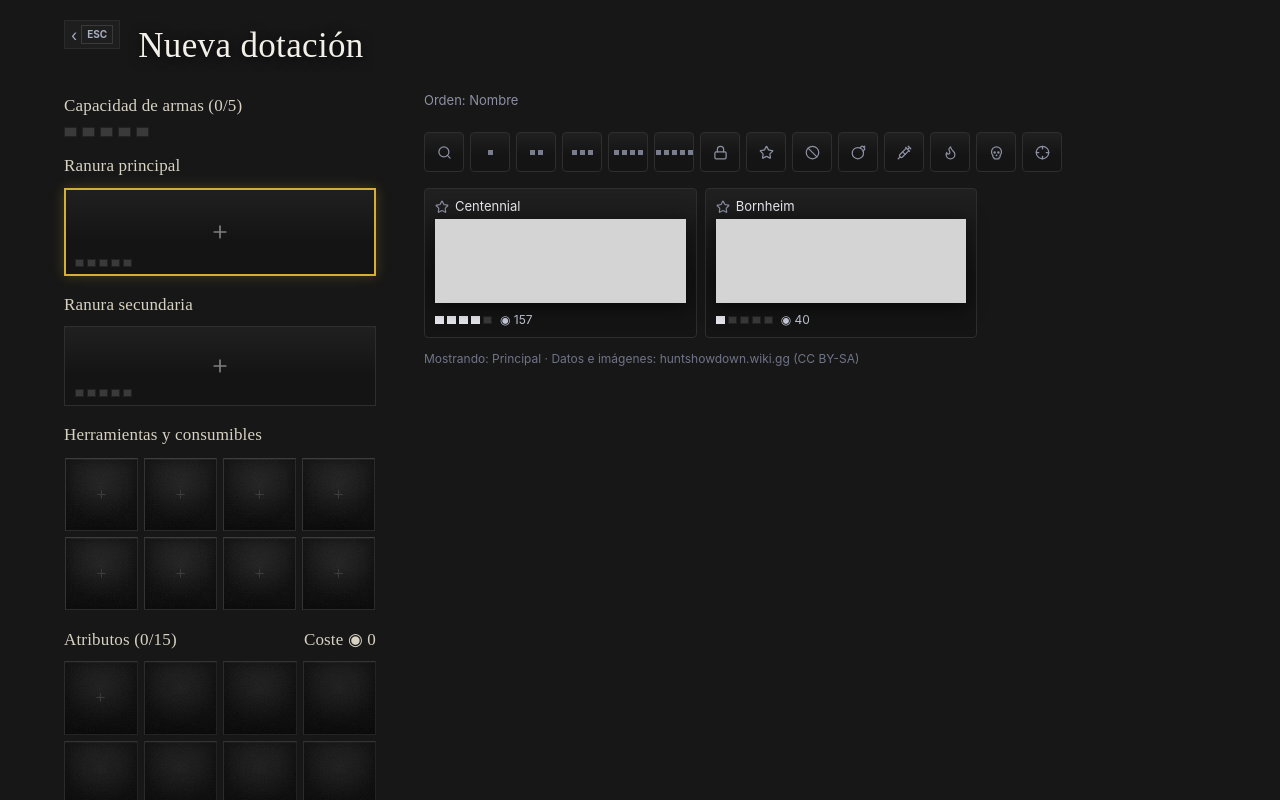
Test: DotacionEditor con armas live › filtra el selector con la búsqueda existente
This screenshot has width=1280, height=800.
Expected: the text "Centennial" is shown, [455,197,520,216]
Click the button named "buscar" at [444, 152], box [424,132,464,172]
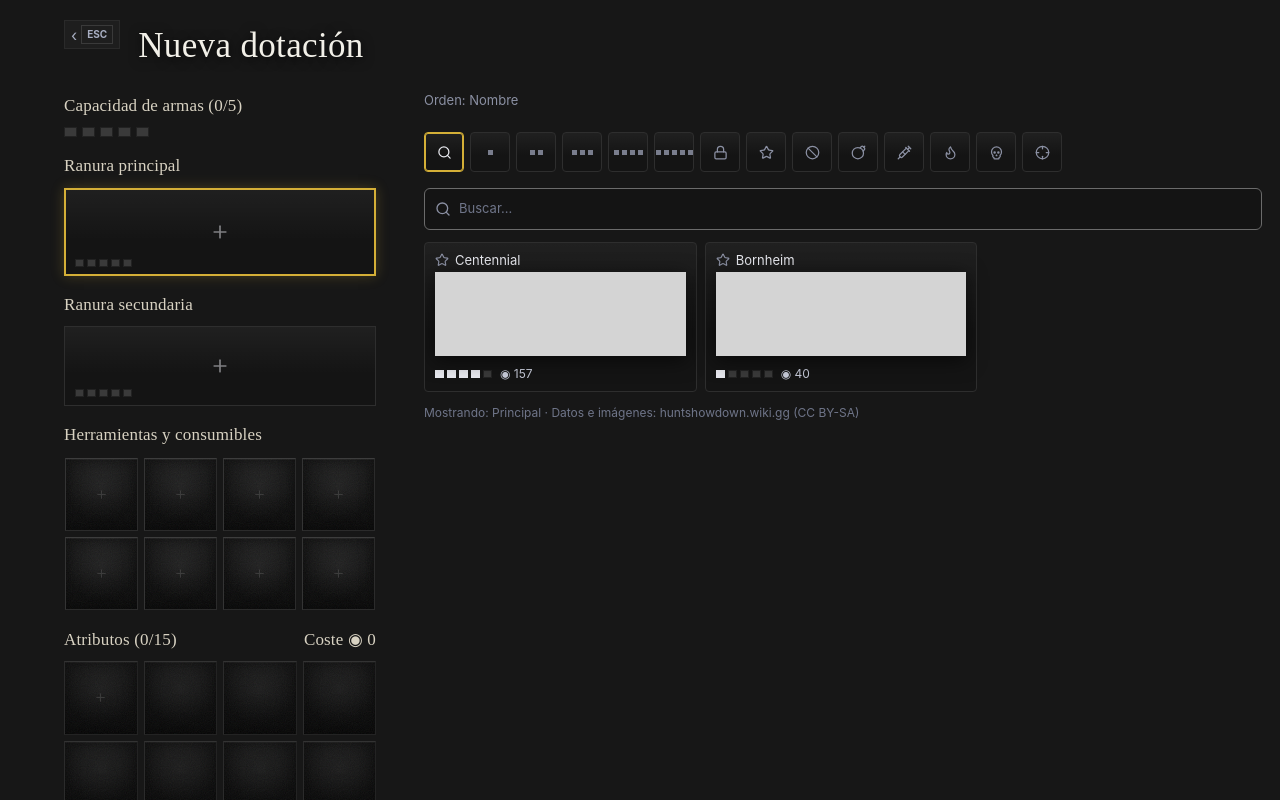
Type "bornheim" into the search field with placeholder "Buscar..." at [855, 209], box [459,189,1251,228]
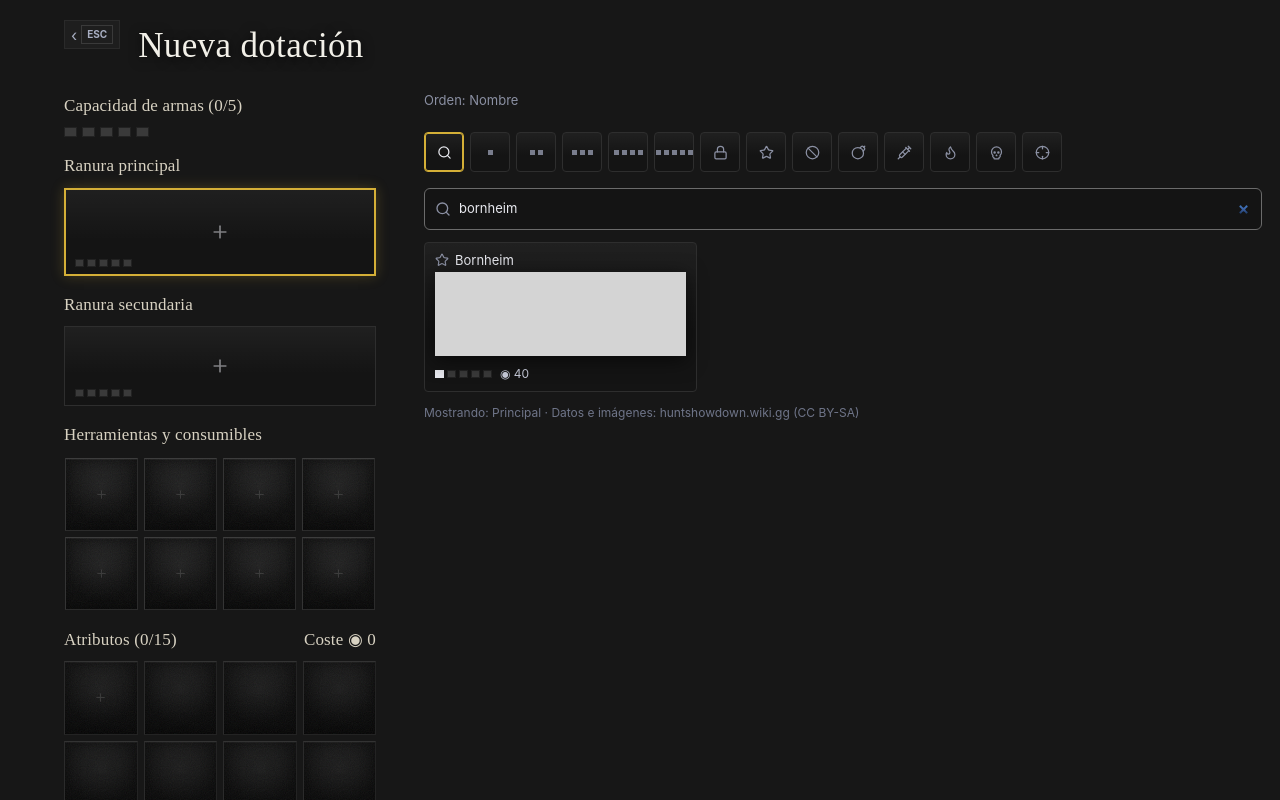
Expected: the text "Bornheim" is shown, [455,250,514,270]
Expected: the button "Centennial" is gone
